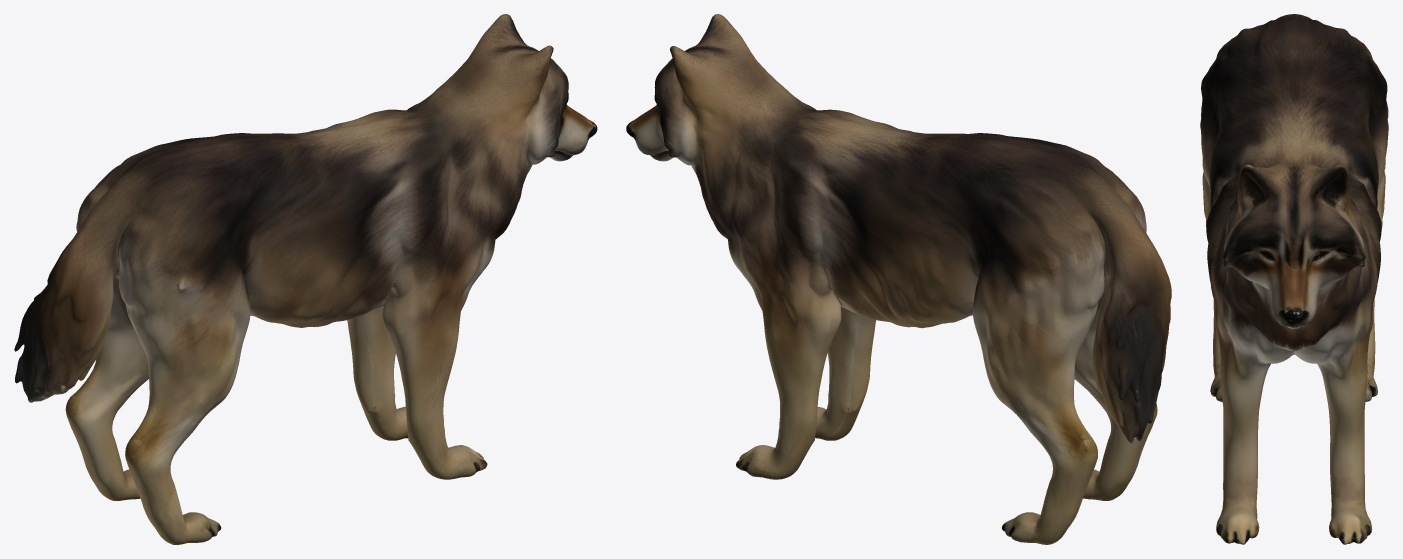
File: graywolf.glb
3 renders of one model, left to right at view 1: azimuth 30°, elevation 25°; view 2: azimuth 150°, elevation 25°; view 3: azimuth 270°, elevation 25°, orthographic. The views are drawn at different scales.
Parts seen in each view (by area): view 1: tripo_node_e1d514dd-2fdf-4dcb-a0bd-af5979d80304; view 2: tripo_node_e1d514dd-2fdf-4dcb-a0bd-af5979d80304; view 3: tripo_node_e1d514dd-2fdf-4dcb-a0bd-af5979d80304.
Boxes of the visible parts, x1,y1,x2,y2 form: tripo_node_e1d514dd-2fdf-4dcb-a0bd-af5979d80304: (14,14,597,544); tripo_node_e1d514dd-2fdf-4dcb-a0bd-af5979d80304: (626,14,1171,544); tripo_node_e1d514dd-2fdf-4dcb-a0bd-af5979d80304: (1200,14,1388,544).
Size of the model in its own units: 0.9477 by 0.6595 by 0.2686.
1 material, 1 textured.
